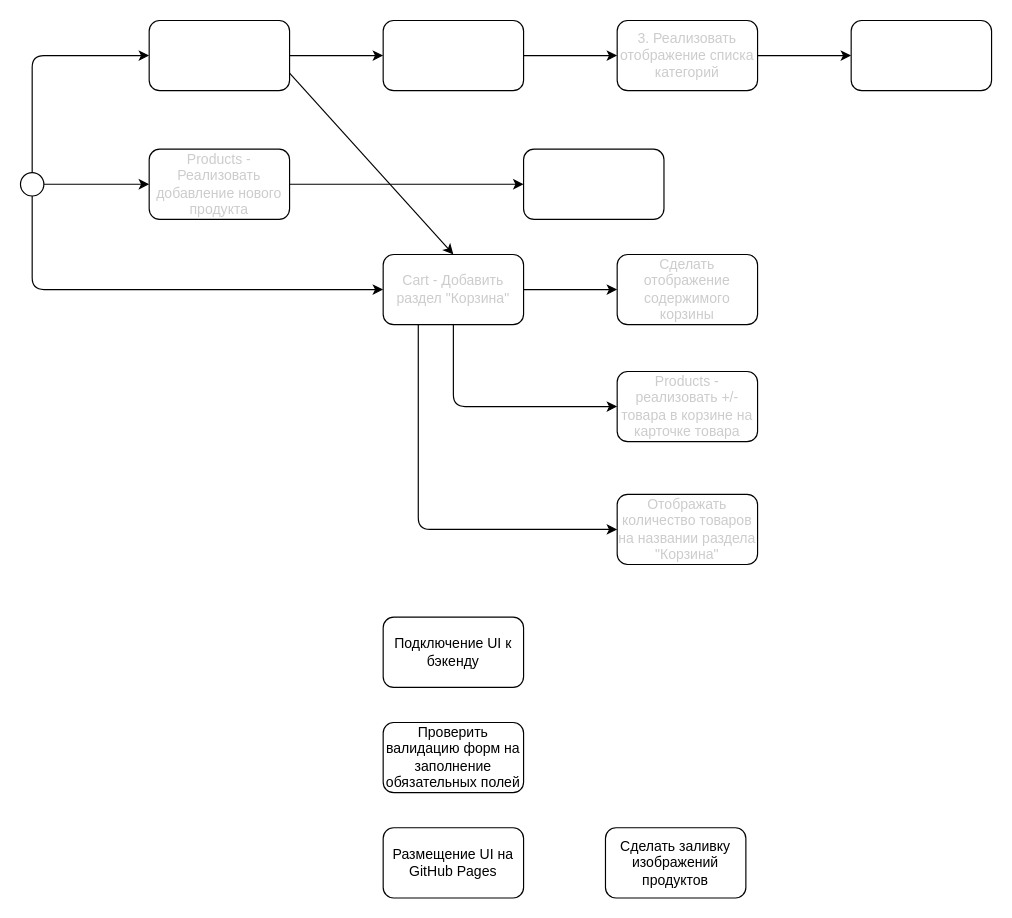
The diagram is 1012 pixels wide and 918 high, and some of its shapes have lost their labels. The box of each missing label's shape, as (x1, y1, x2, y2) in pixels:
1. Добавить меню разделов (Продукты, Категории, Корзина, Профиль): (148, 19, 290, 91)
2. Добавить раздел Categories: (382, 19, 524, 91)
4. Реализовать CRUD-операции Categories (Backend - на заглушке): (850, 19, 992, 91)
Сделать связь категорий с продуктами: (522, 148, 664, 219)
